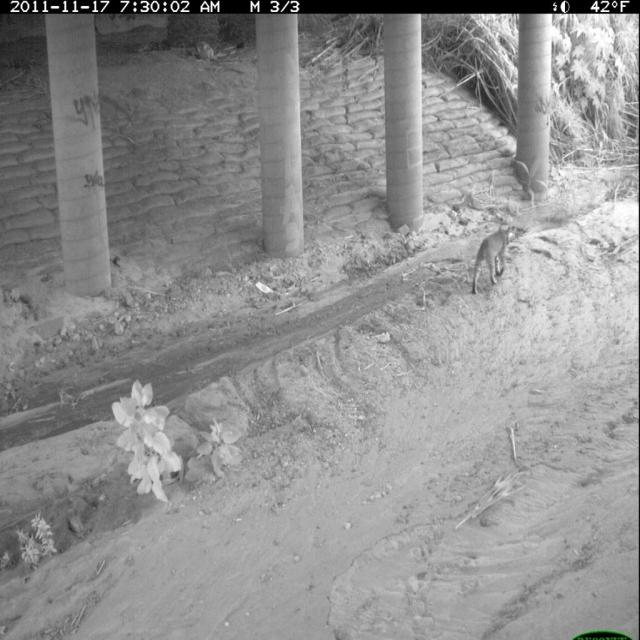bobcat: (467, 222, 517, 299)
